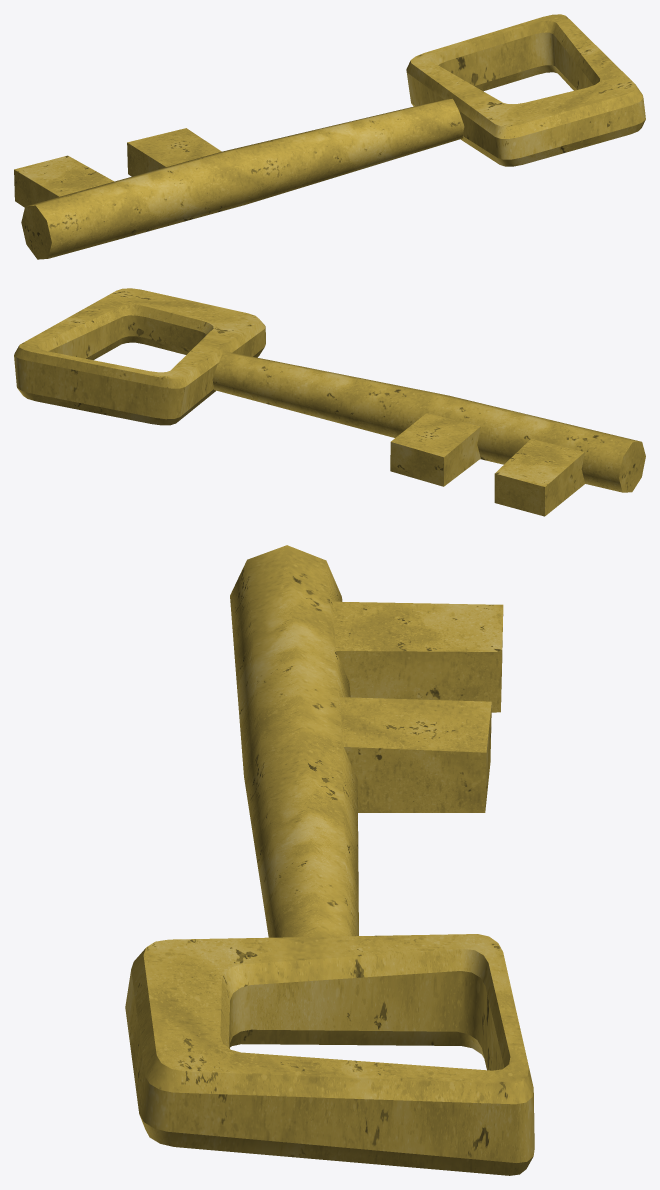
File: key.glb
3 renders of one model, top to bottom at view 1: azimuth 30°, elevation 25°; view 2: azimuth 150°, elevation 25°; view 3: azimuth 270°, elevation 25°, orthographic. The views are drawn at different scales.
Parts seen in each view (by area): view 1: Keyredinstemission01Mtl_Obj_2; view 2: Keyredinstemission01Mtl_Obj_2; view 3: Keyredinstemission01Mtl_Obj_2.
Part boxes in pixels (left/top/right/bottom): Keyredinstemission01Mtl_Obj_2: left=14, top=14, right=645, bottom=259; Keyredinstemission01Mtl_Obj_2: left=14, top=288, right=645, bottom=516; Keyredinstemission01Mtl_Obj_2: left=125, top=545, right=534, bottom=1175.
Bounding box in the file's own units: 1.39 × 0.1262 × 0.438.
Materials: 1 (1 with a texture image).
